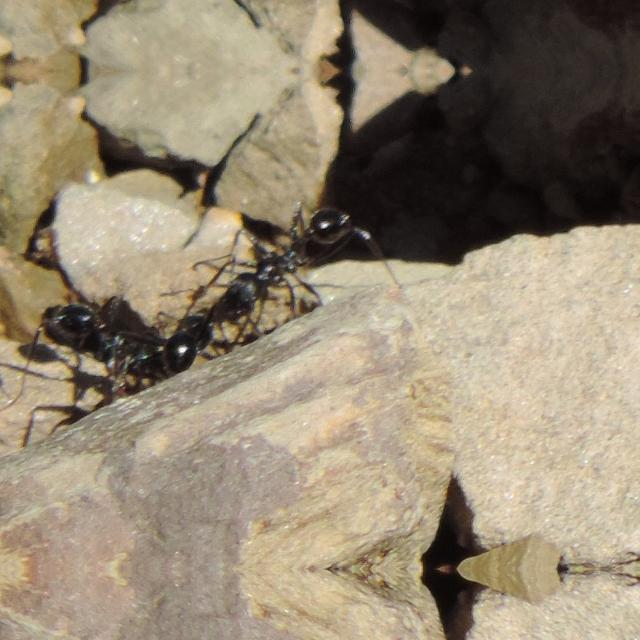Apheanogaster: (196, 189, 387, 337), (7, 268, 220, 400)
